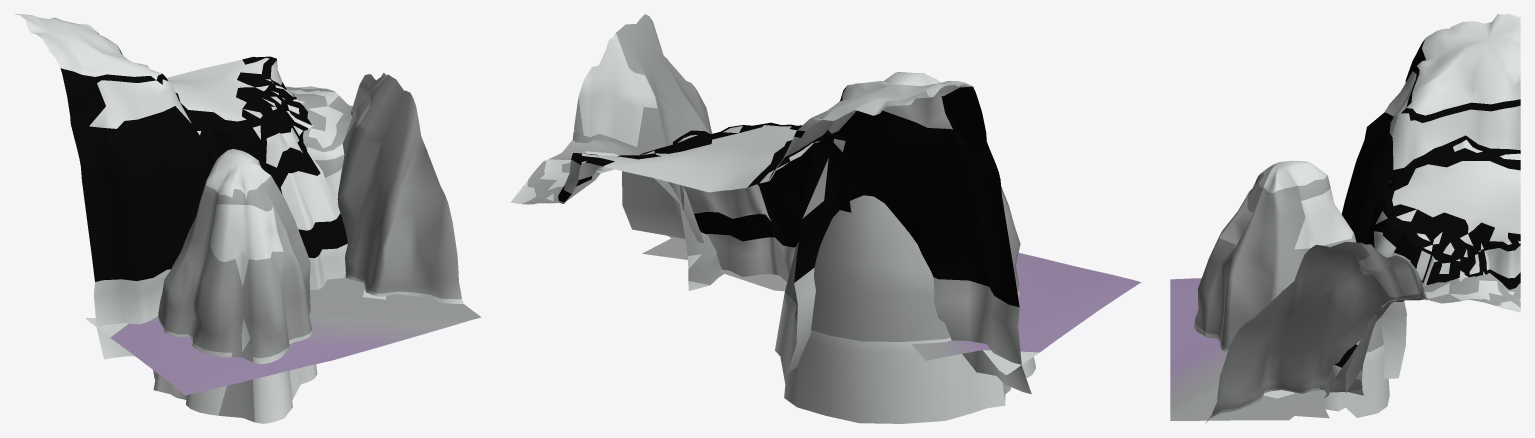
The picture shows the model from 3 angles, left to right: view 1: azimuth 30°, elevation 25°; view 2: azimuth 150°, elevation 25°; view 3: azimuth 270°, elevation 25°; orthographic projection. The views are drawn at different scales.
Parts seen in each view (by area): view 1: G:\FFXIV-MapTools\exports\m5f1\bg\ex4\02_mid_m5\fld\m5f1\bgp (×12); view 2: G:\FFXIV-MapTools\exports\m5f1\bg\ex4\02_mid_m5\fld\m5f1\bgp (×10); view 3: G:\FFXIV-MapTools\exports\m5f1\bg\ex4\02_mid_m5\fld\m5f1\bgp (×14).
Boxes of the visible parts, <box> form: G:\FFXIV-MapTools\exports\m5f1\bg\ex4\02_mid_m5\fld\m5f1\bgp (×12): <box>15,14,481,423</box>; G:\FFXIV-MapTools\exports\m5f1\bg\ex4\02_mid_m5\fld\m5f1\bgp (×10): <box>522,16,1141,423</box>; G:\FFXIV-MapTools\exports\m5f1\bg\ex4\02_mid_m5\fld\m5f1\bgp (×14): <box>1170,14,1520,423</box>.
Size of the model in its own units: 128 by 128 by 128.
